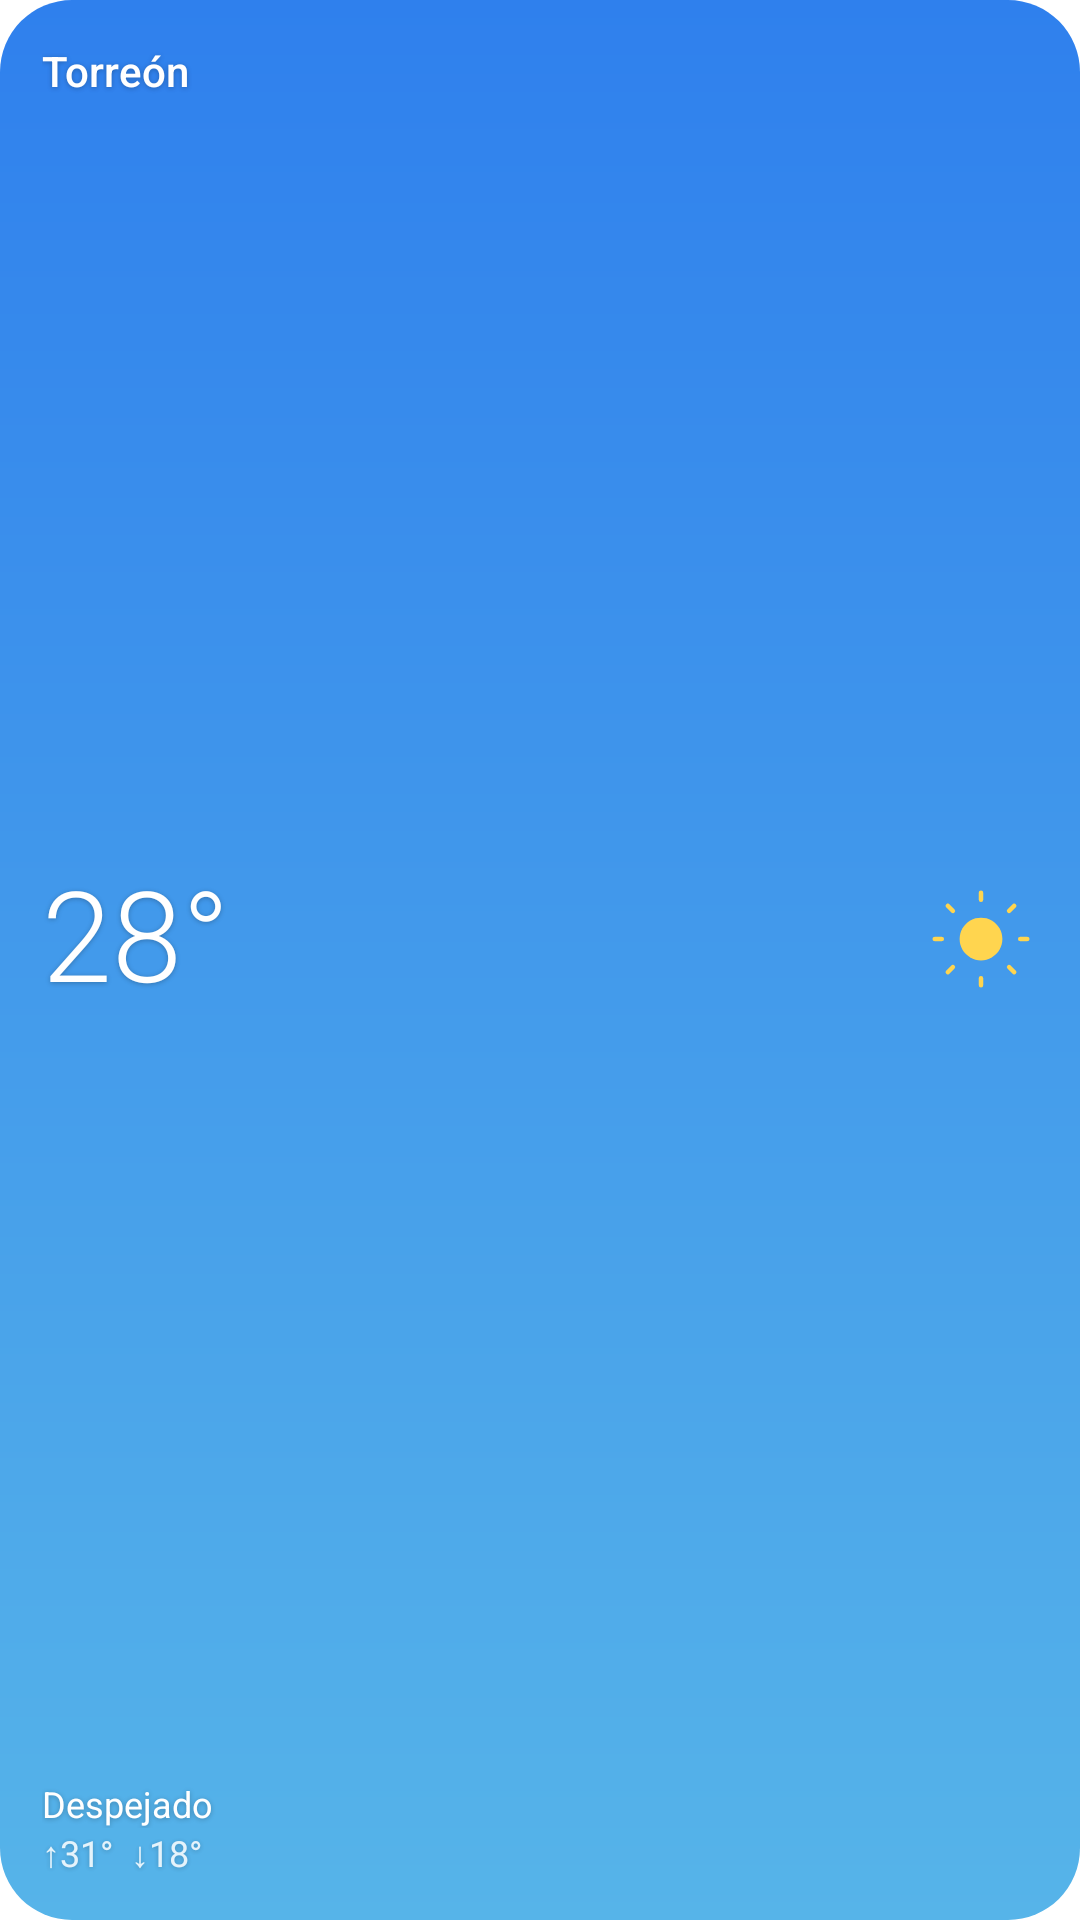

Icon click points for this 1080 x 1920 phone screenshot, format (x=x, y=y):
weather sunny: (x=981, y=939)
